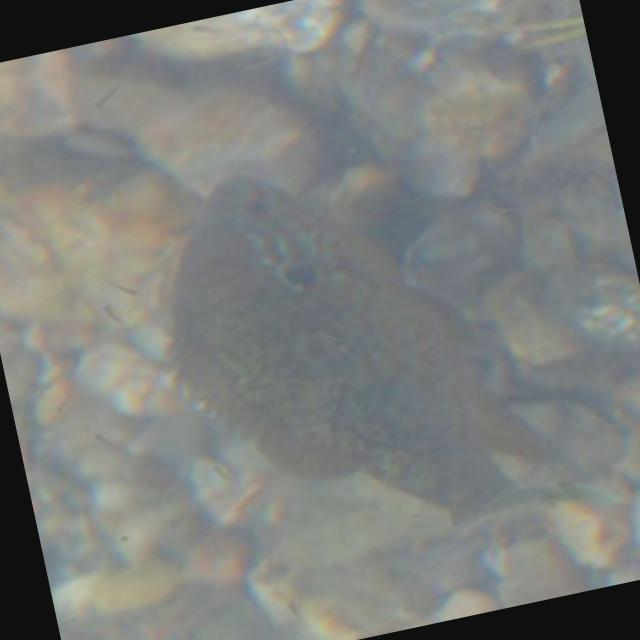Gunes Levregi: (118, 115, 572, 587)
